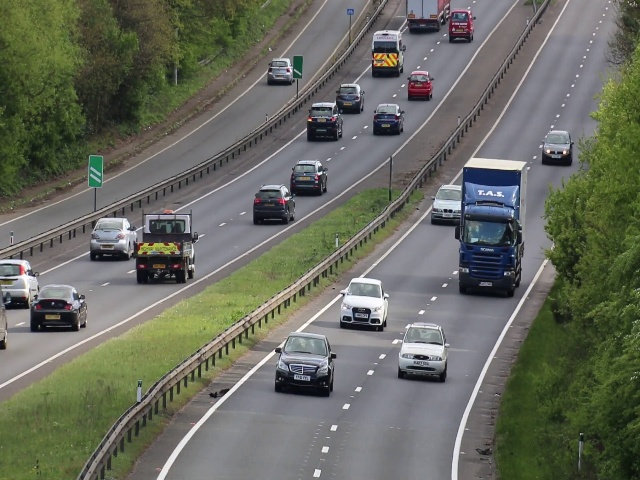car: (459, 209, 517, 298), (140, 210, 194, 280), (278, 333, 332, 394), (398, 322, 446, 382), (339, 276, 389, 329), (32, 283, 85, 331), (88, 217, 136, 256), (252, 182, 296, 224), (1, 259, 37, 307), (369, 31, 405, 75), (288, 157, 327, 196), (307, 102, 342, 143), (542, 129, 574, 166), (432, 183, 461, 222), (373, 102, 404, 135), (264, 56, 296, 85), (336, 82, 366, 112), (447, 11, 475, 41), (408, 71, 433, 99)
